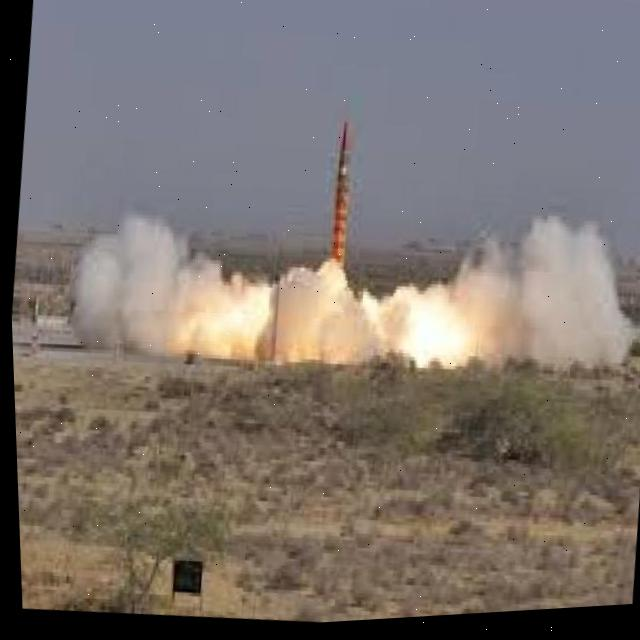missile: (310, 120, 366, 276)
